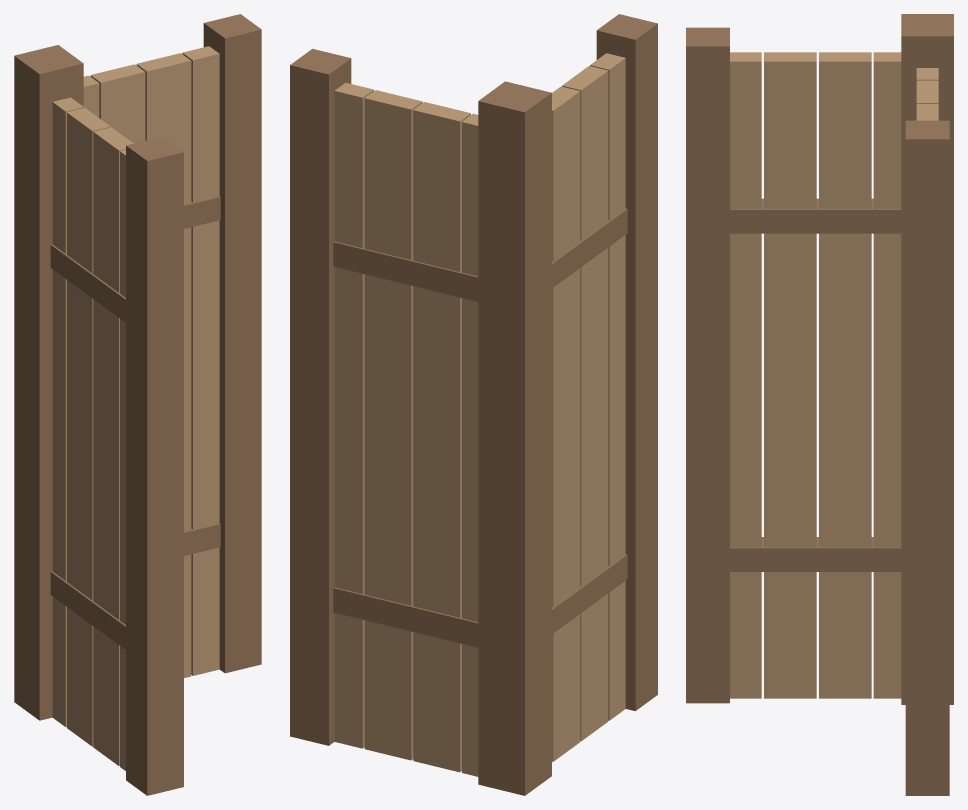
The model's file is fence_wood_corner.glb.
3 views of the same model, side by side, from view 1: azimuth 30°, elevation 25°; view 2: azimuth 150°, elevation 25°; view 3: azimuth 270°, elevation 25° (orthographic). The views are drawn at different scales.
Parts seen in each view (by area): view 1: fence_wood_corner; view 2: fence_wood_corner; view 3: fence_wood_corner.
Part boxes in pixels (x1,y1,x2,y2): fence_wood_corner: (14, 14, 261, 795); fence_wood_corner: (290, 14, 657, 795); fence_wood_corner: (686, 14, 953, 795).
Bounding box in the file's own units: 0.61 × 1.68 × 0.61.
